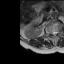CCS_normal: (53, 29, 55, 38)
LFS_stenosis: (57, 29, 60, 35)
LLS_normal: (55, 29, 57, 37)
RFS_normal: (50, 29, 52, 35)
RLS_normal: (52, 29, 53, 37)
